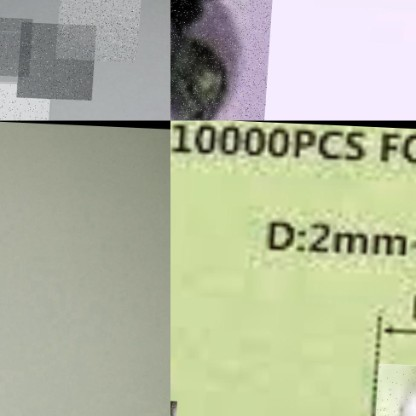ironball: (170, 0, 275, 120), (17, 21, 96, 99), (56, 0, 141, 60), (0, 82, 52, 120), (0, 17, 33, 76)
